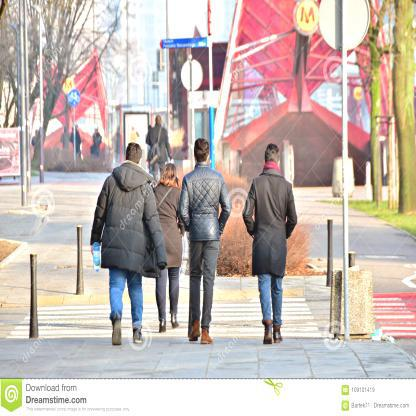person: (100, 141, 155, 347), (178, 136, 228, 346), (250, 142, 298, 344), (147, 161, 182, 334)
